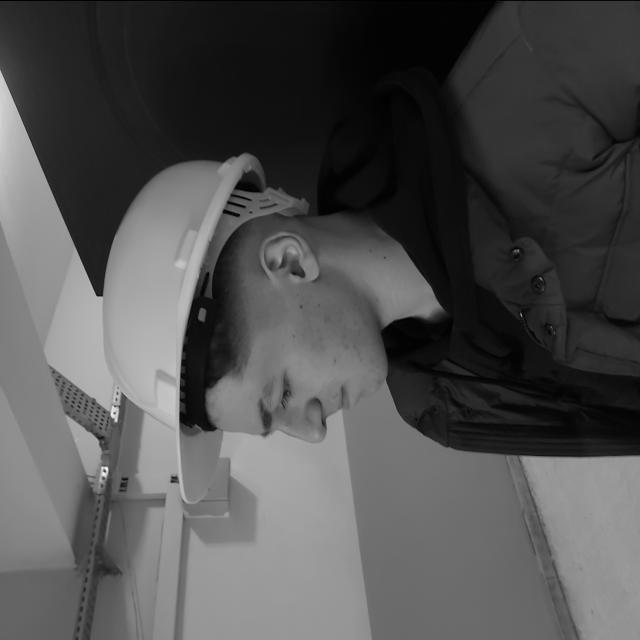safety_helmet: (103, 151, 307, 504)
